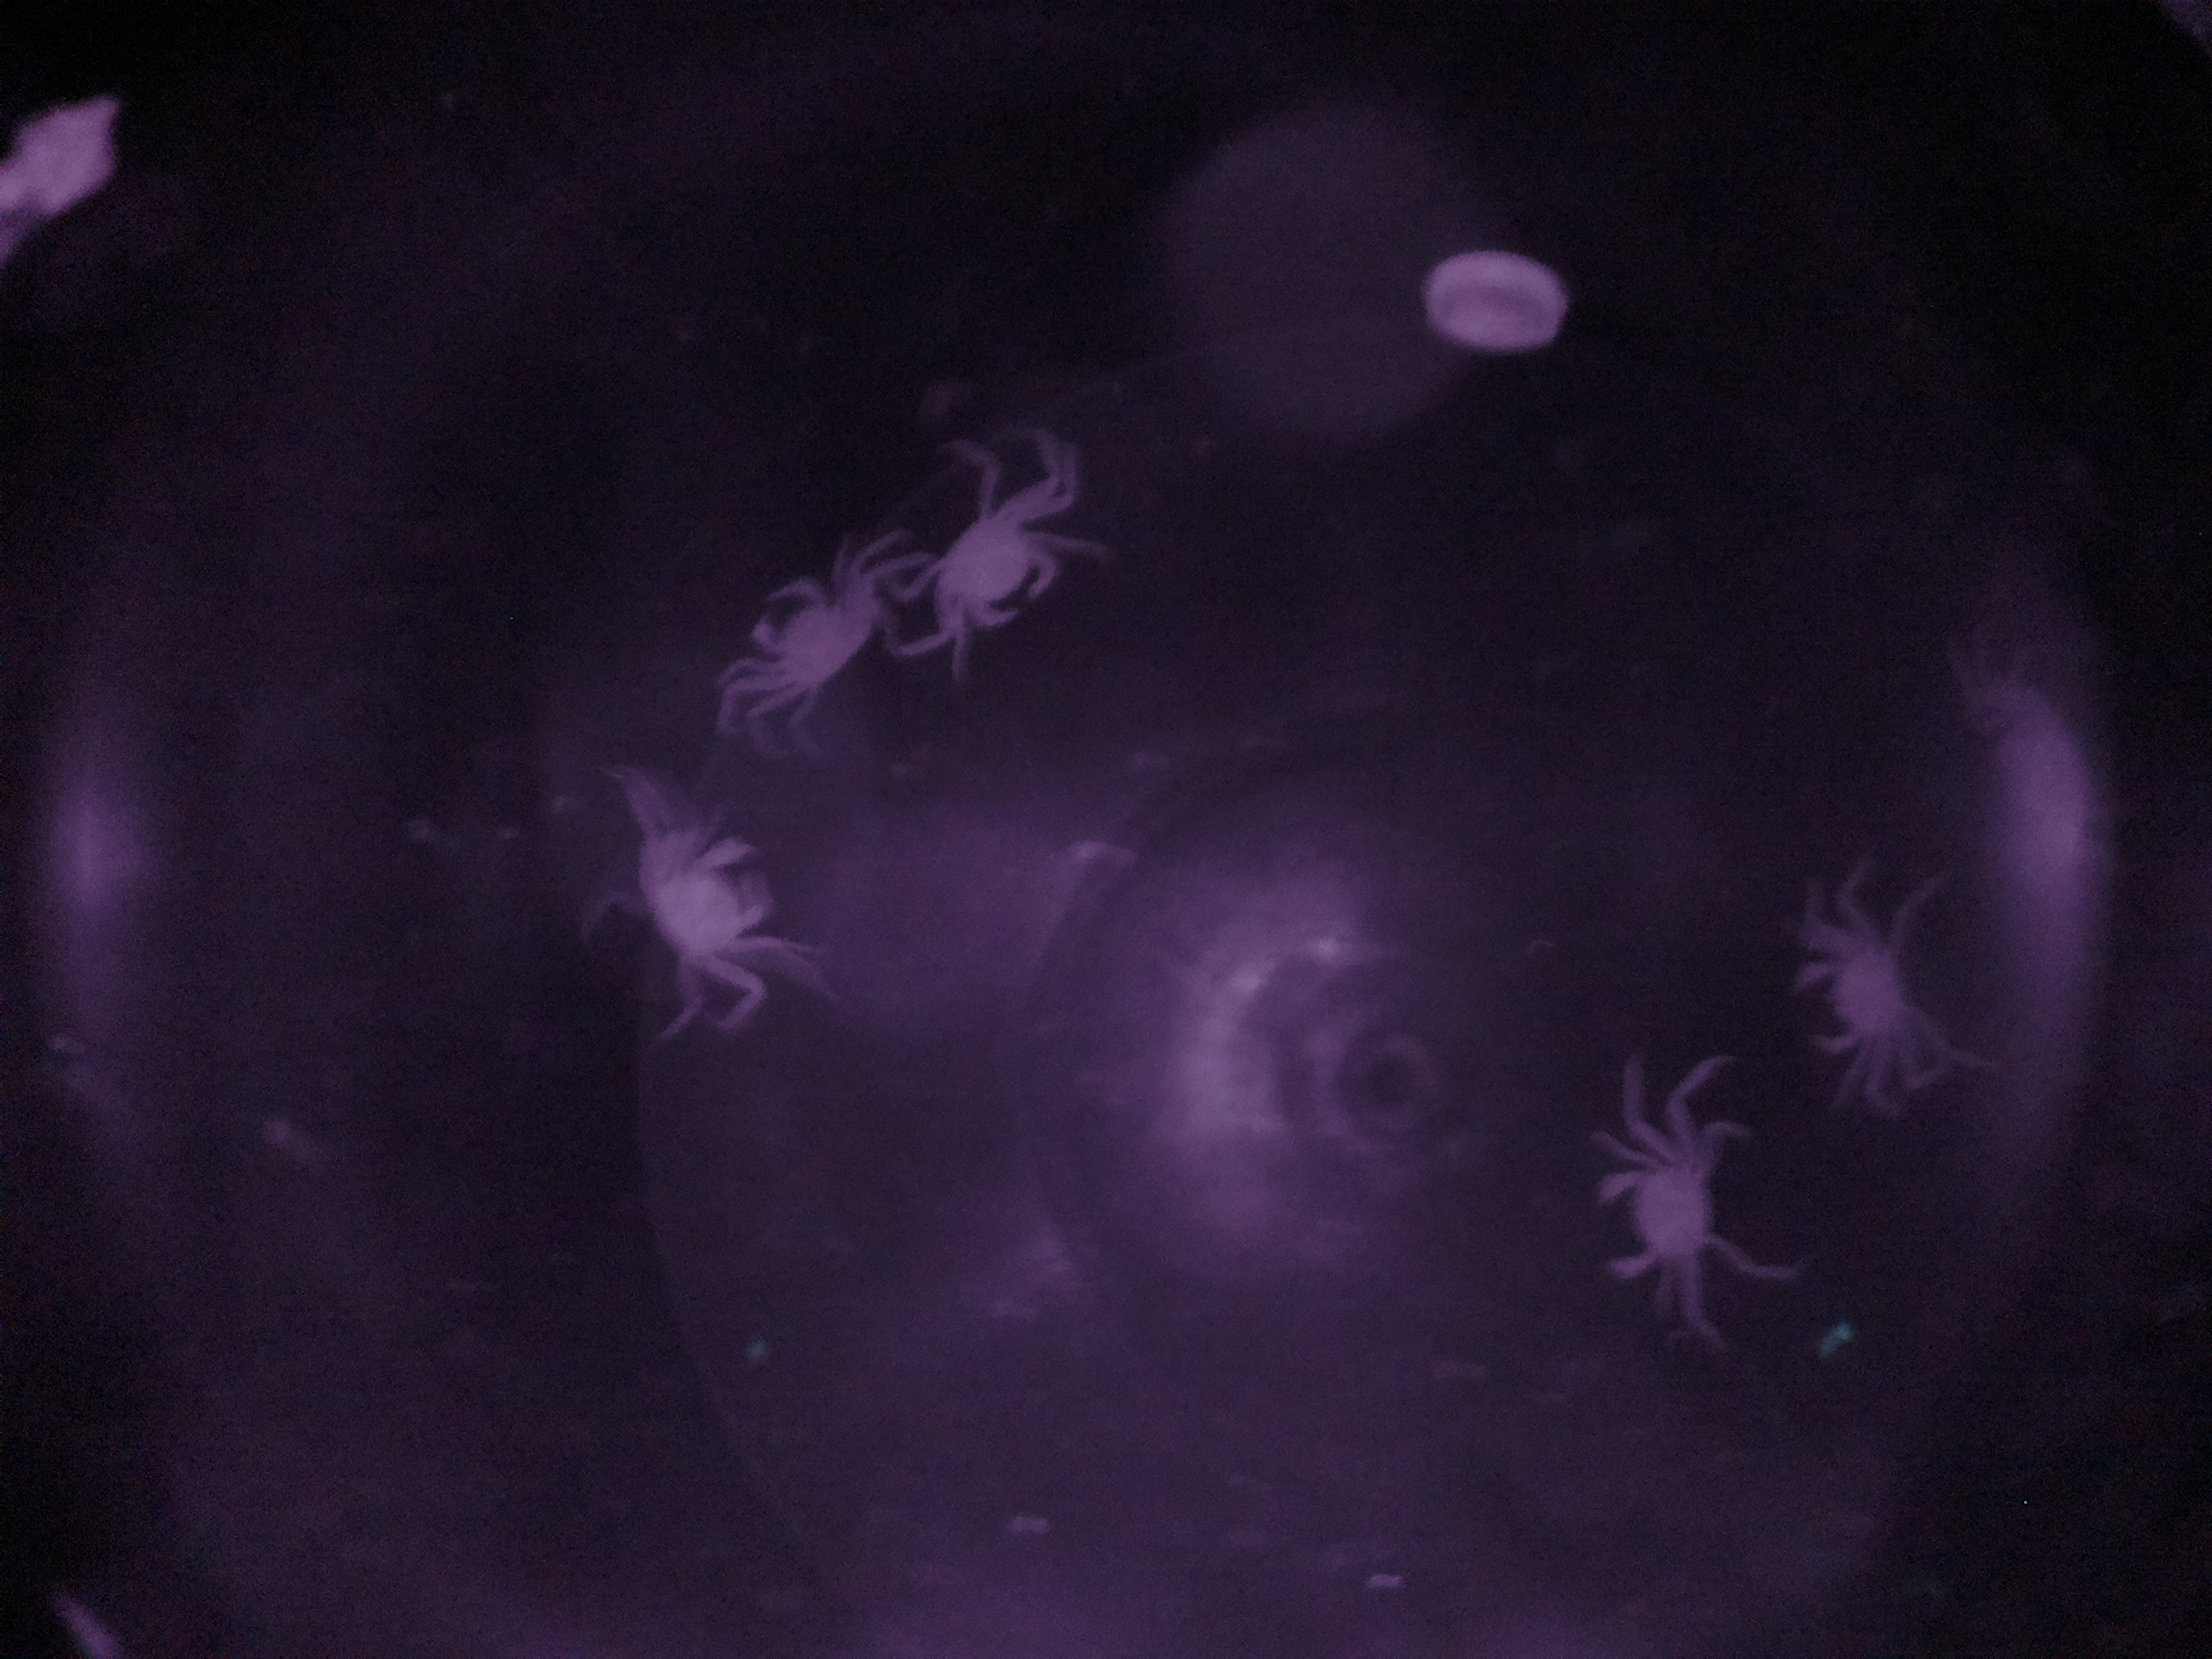Crab: (1587, 1089, 1745, 1310), (904, 471, 1069, 653), (725, 556, 881, 720)
